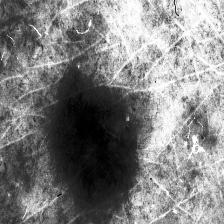Benign Marking or Mole: (50, 72, 134, 202)
